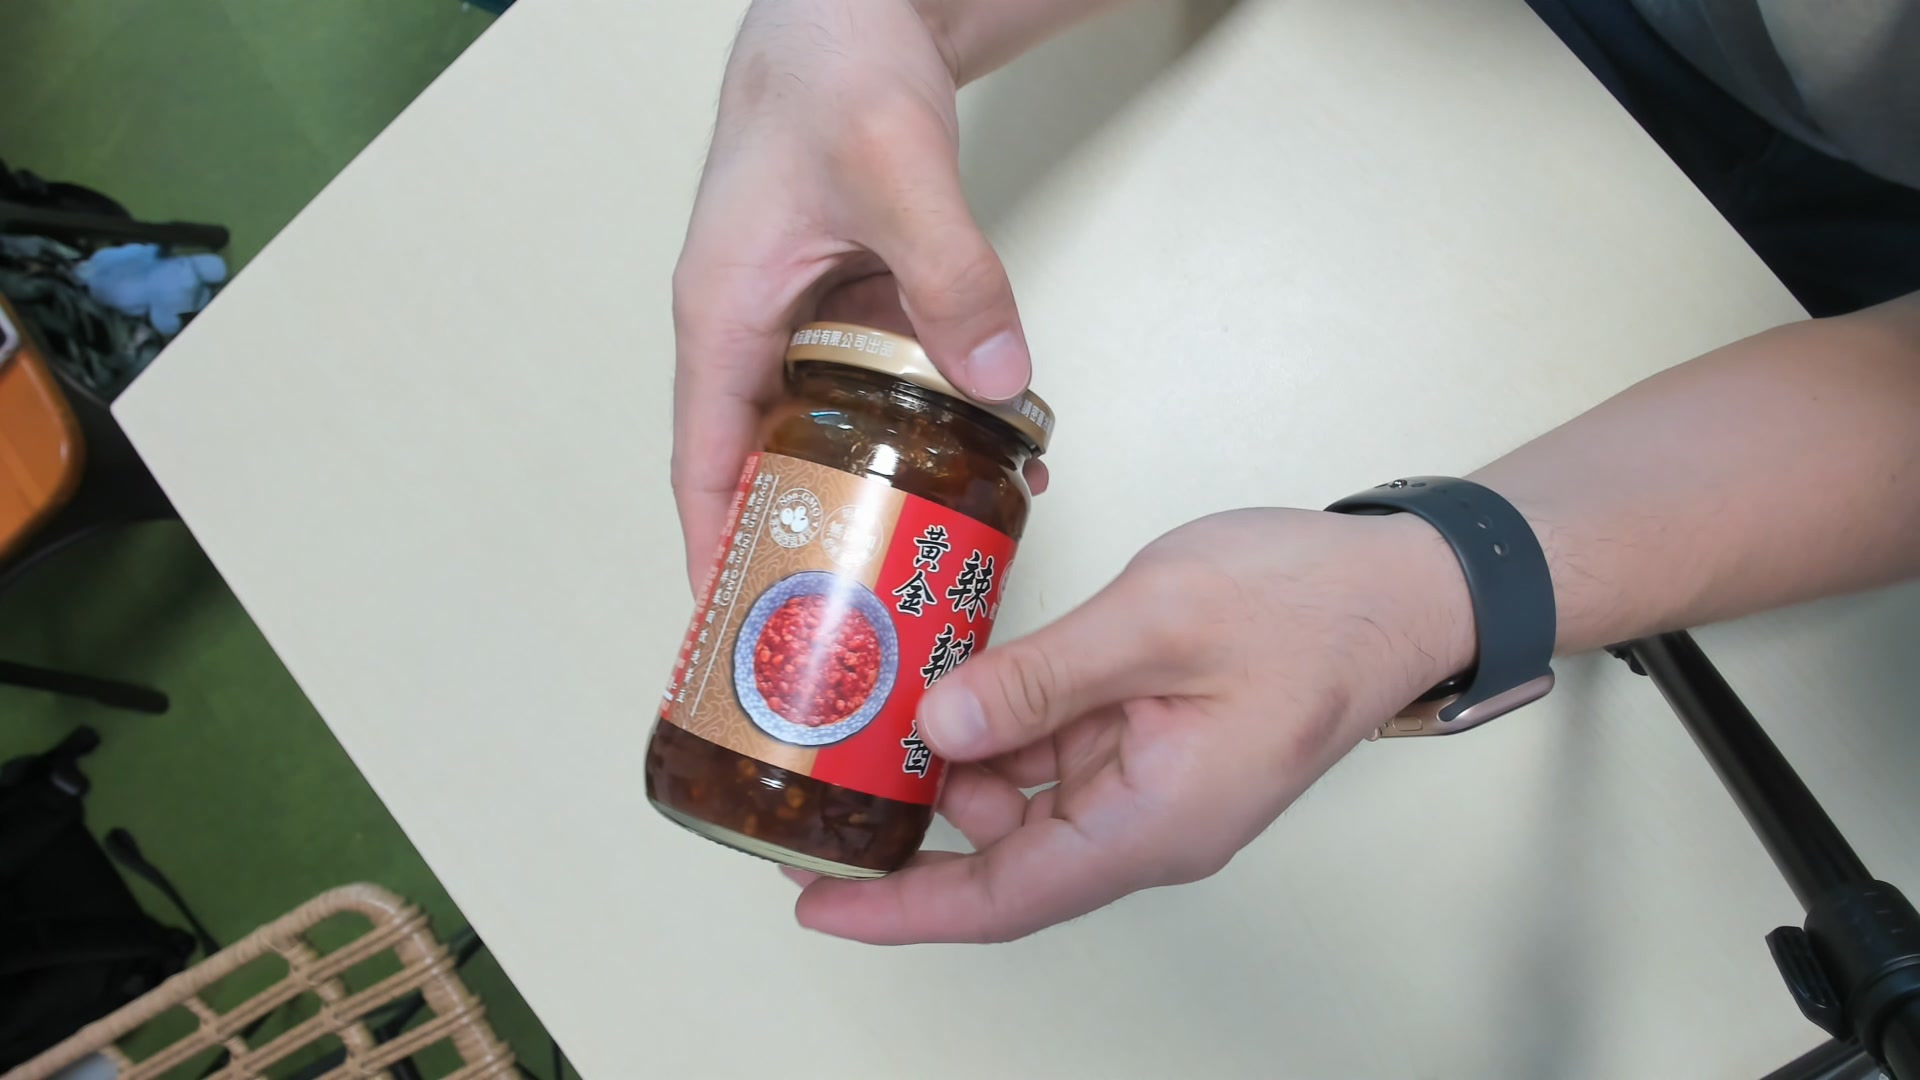OtherSauceDressing_300-399g_NonHalal_NonHealthy: (636, 313, 1054, 882)
